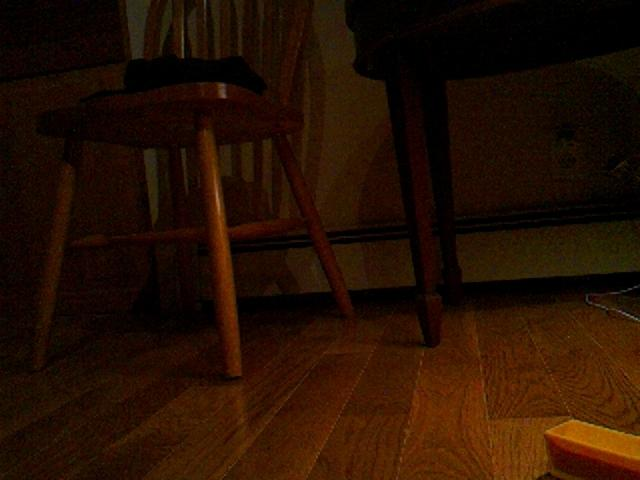yellow: (543, 417, 640, 480)
